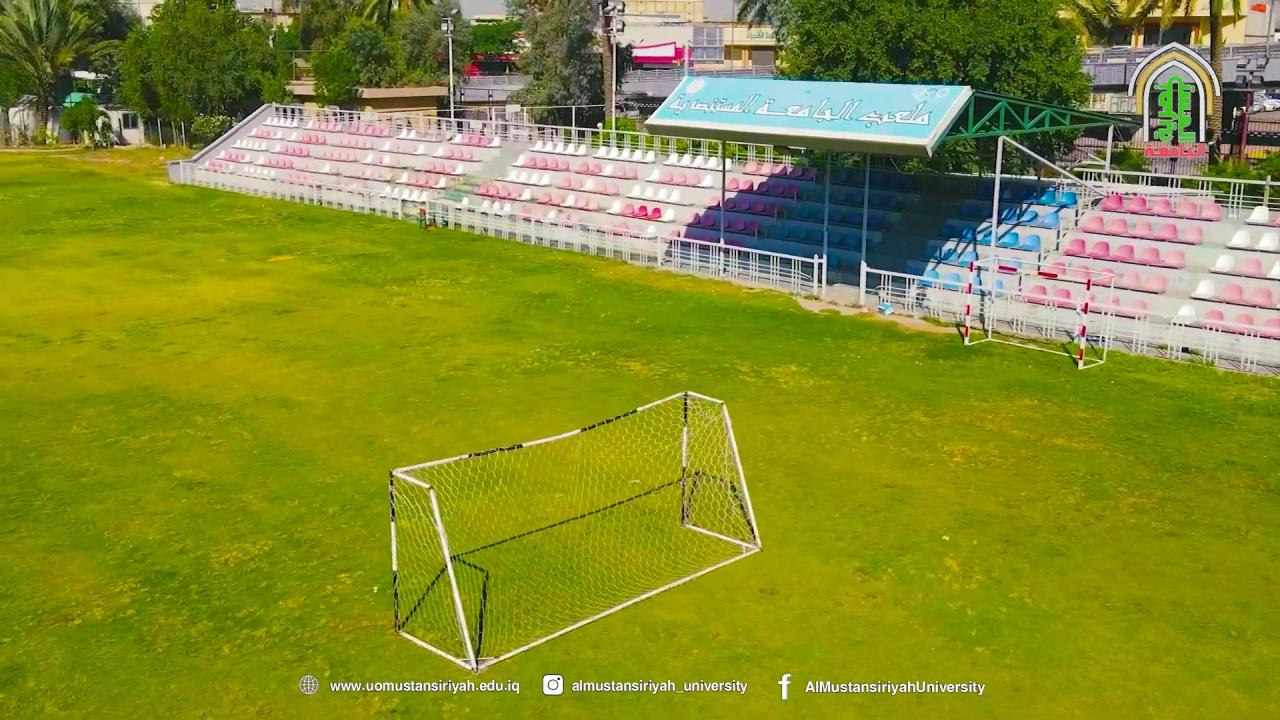tree: (734, 0, 1095, 177), (1064, 0, 1247, 154), (113, 0, 289, 149), (0, 0, 117, 145), (504, 0, 606, 136), (1156, 0, 1246, 153), (308, 21, 406, 115), (1058, 0, 1194, 47), (355, 0, 433, 33), (59, 95, 101, 146)
